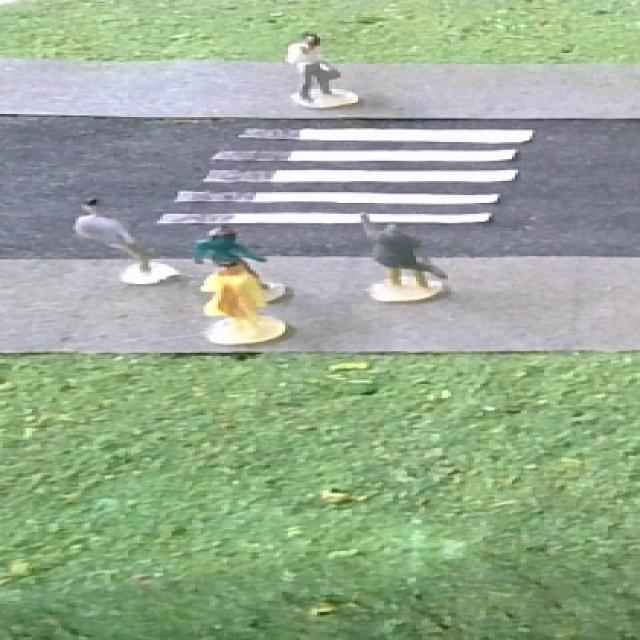person: (341, 208, 455, 306), (68, 192, 182, 288), (193, 258, 294, 349), (276, 26, 366, 112), (188, 222, 276, 260)
